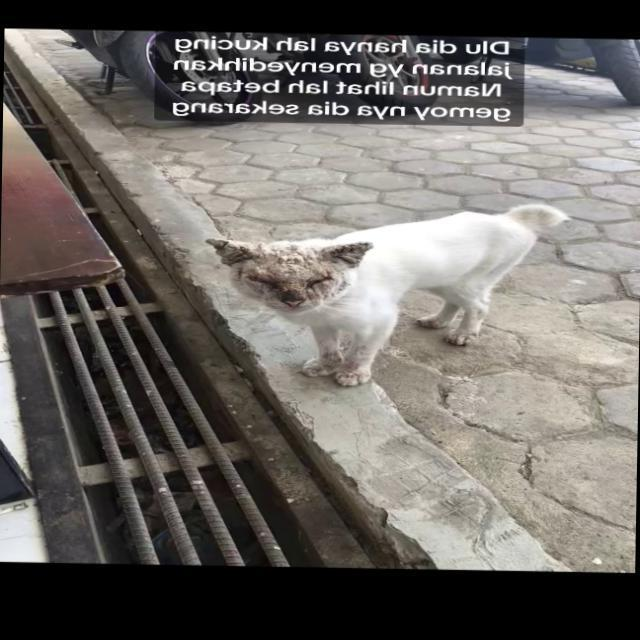ghe: (210, 238, 380, 276)
